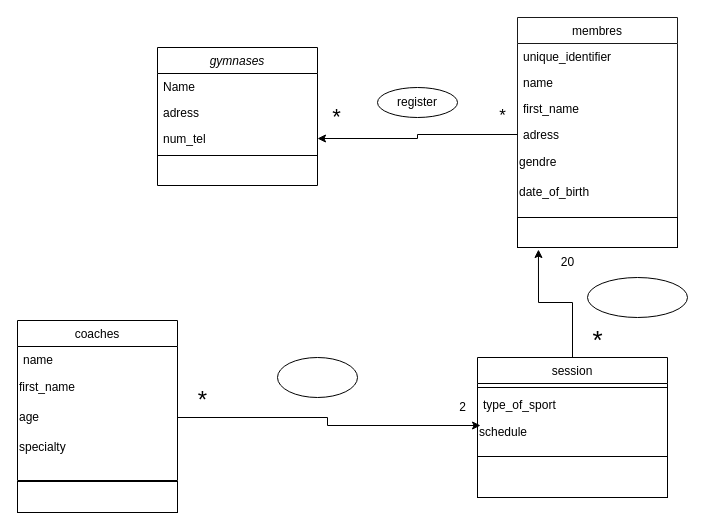
Some shapes in this 705 by 530 pixel diagram are drawn without their labels. The shapes that lost their labels are listed below. From the top down, each one's centre as x and y in pixels, then its label:
At [637,297]: "accommodate".
At [317,377]: "led".
